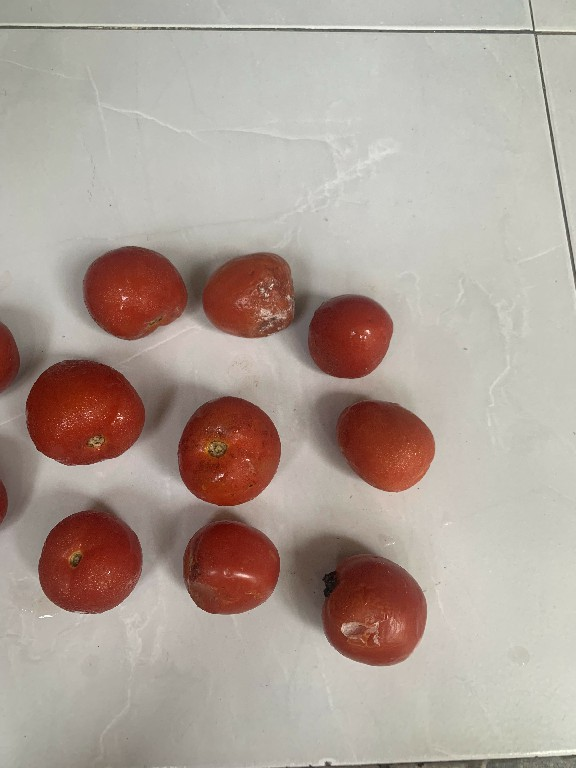NG: (160, 390, 293, 513), (314, 547, 433, 669), (191, 241, 303, 348)
OK: (19, 350, 145, 467), (32, 492, 147, 620), (324, 390, 446, 498), (175, 518, 286, 621), (83, 241, 184, 348), (307, 288, 398, 388)
